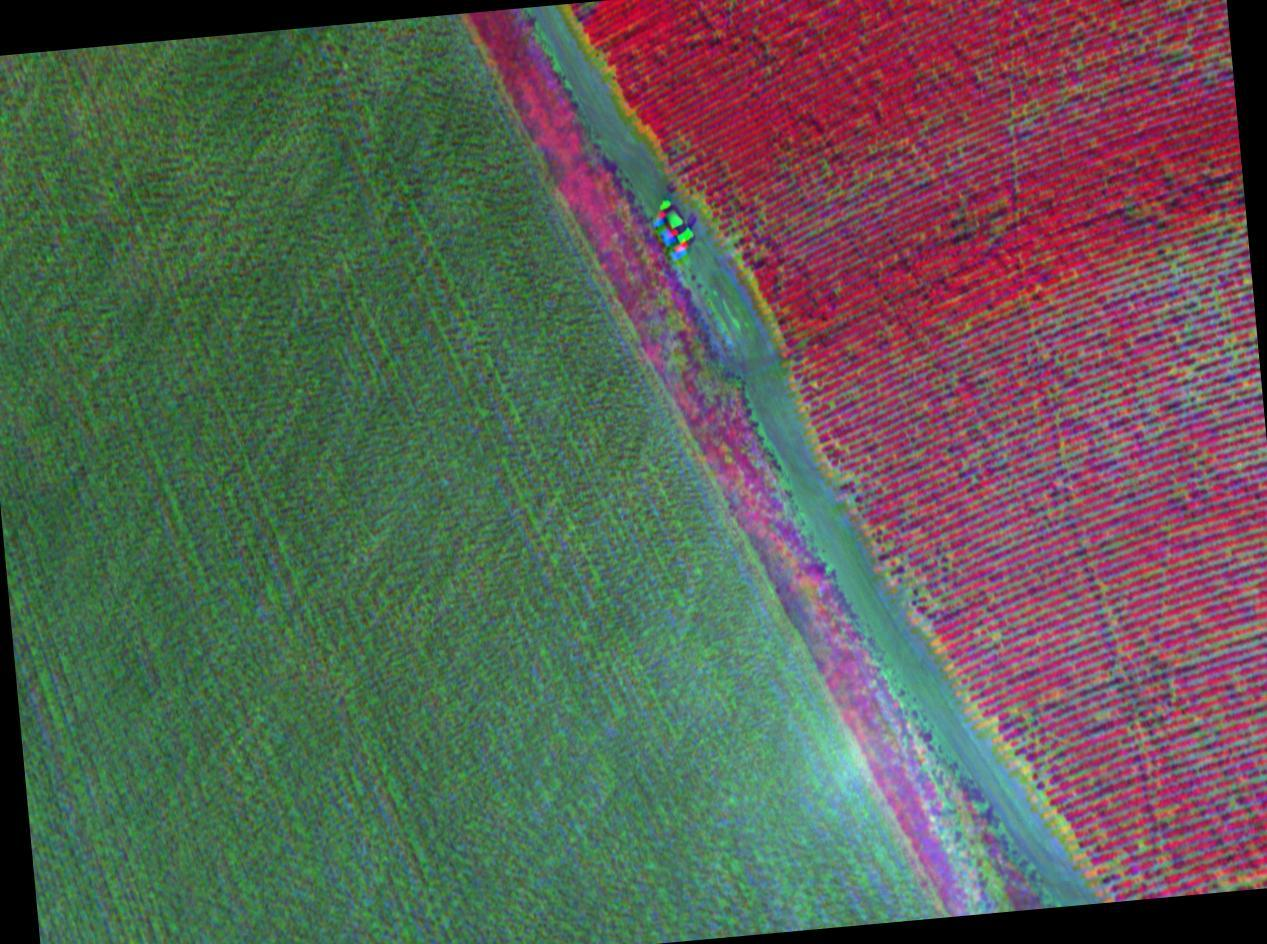dc: (1159, 248, 1262, 325), (885, 548, 974, 626), (994, 707, 1069, 790), (1186, 351, 1260, 428), (826, 453, 894, 518)
